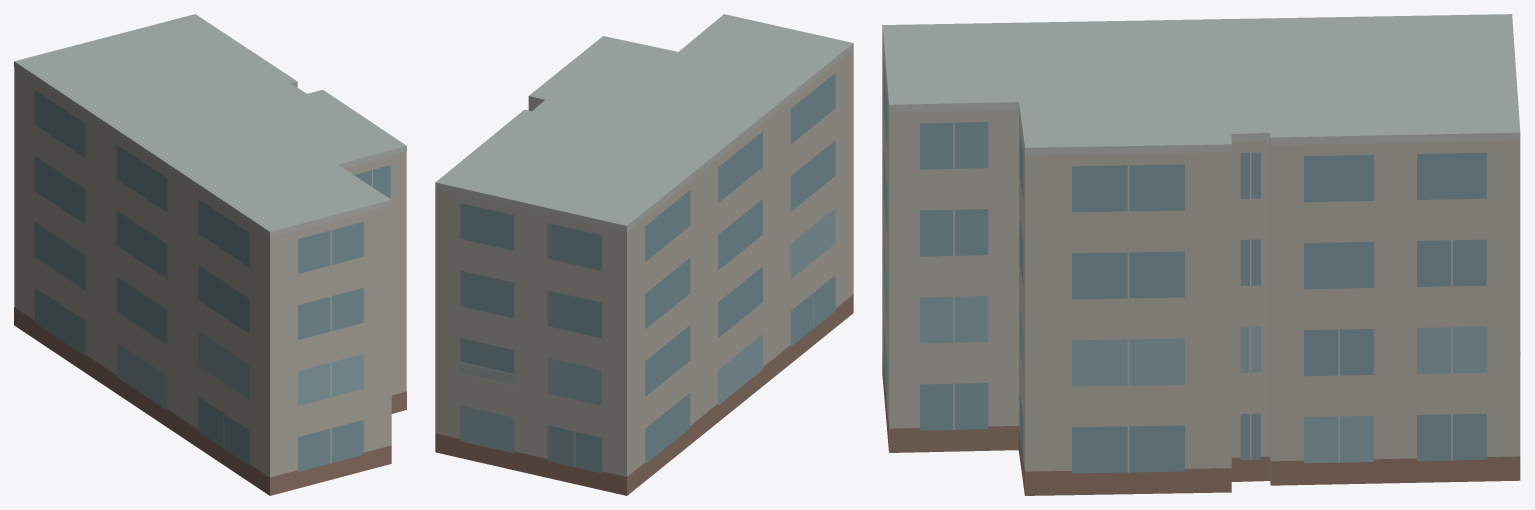
Rendered from survey-upis-32685159.glb.
3 renders of one model, left to right at view 1: azimuth 30°, elevation 25°; view 2: azimuth 150°, elevation 25°; view 3: azimuth 270°, elevation 25°, orthographic. The views are drawn at different scales.
Visible parts, largest first — view 1: survey-upis-32685159.tmp; view 2: survey-upis-32685159.tmp; view 3: survey-upis-32685159.tmp.
Part boxes in pixels (left/top/right/bottom): survey-upis-32685159.tmp: left=14, top=14, right=406, bottom=495; survey-upis-32685159.tmp: left=435, top=14, right=853, bottom=495; survey-upis-32685159.tmp: left=882, top=14, right=1520, bottom=495.
Bounding box in the file's own units: 9.12 × 11.05 × 18.37.
